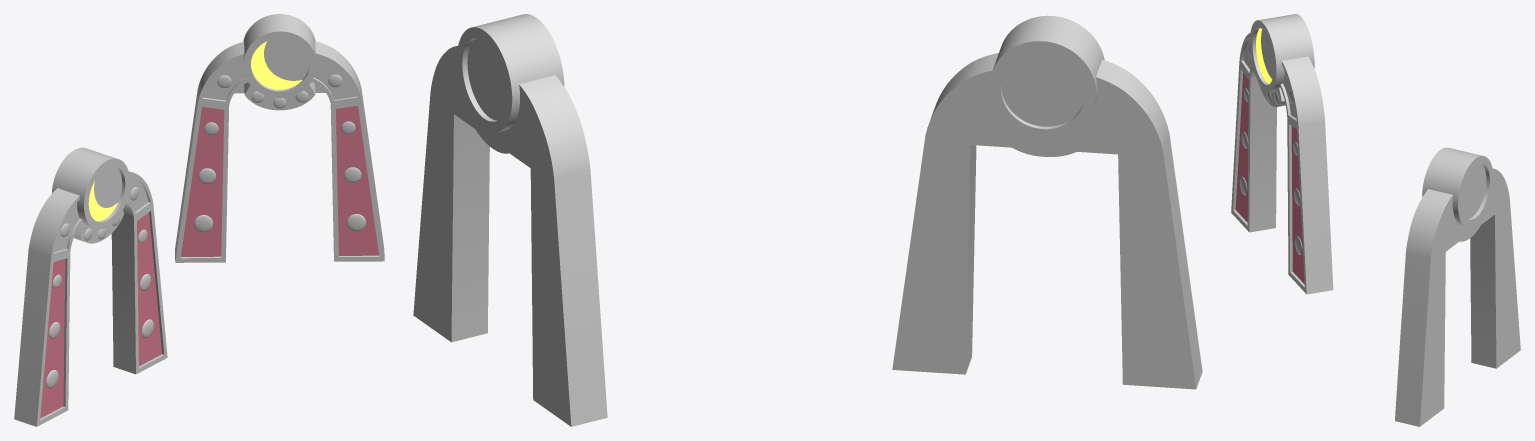
The model's file is Archs.fbx.
The picture shows the model from 3 angles, left to right: view 1: azimuth 30°, elevation 25°; view 2: azimuth 150°, elevation 25°; view 3: azimuth 270°, elevation 25°; orthographic projection. The views are drawn at different scales.
Parts seen in each view (by area): view 1: Circle, Circle.004; view 2: Circle.004, Circle; view 3: Circle, Circle.004.
Part boxes in pixels (x1=…): Circle: x1=175, y1=14, x2=384, y2=262; Circle.004: x1=14, y1=147, x2=167, y2=426; Circle.004: x1=892, y1=15, x2=1202, y2=389; Circle: x1=413, y1=14, x2=607, y2=426; Circle: x1=1395, y1=147, x2=1520, y2=426; Circle.004: x1=1231, y1=14, x2=1333, y2=294.
Bounding box in the file's own units: 2188 × 1079 × 1225.
